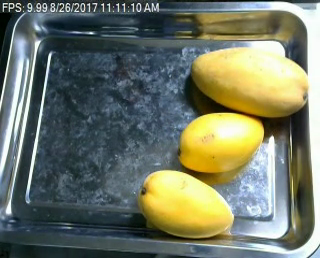Mango: (190, 42, 311, 120), (135, 165, 235, 241), (175, 110, 267, 175)
